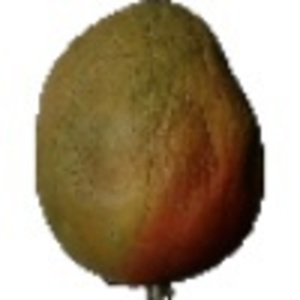mamão: (30, 2, 274, 291)
